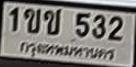letters: (42, 8, 63, 37), (23, 7, 42, 35), (74, 11, 91, 39), (108, 14, 124, 42), (92, 12, 107, 40), (8, 5, 20, 34)
province: (19, 40, 116, 62)
